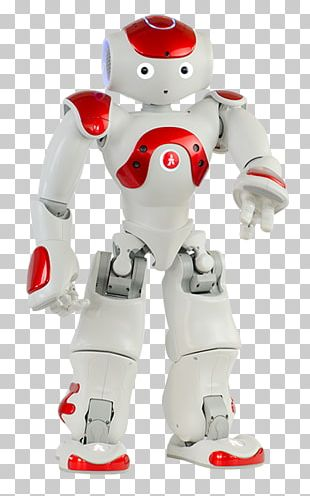nao: (13, 8, 294, 495)
